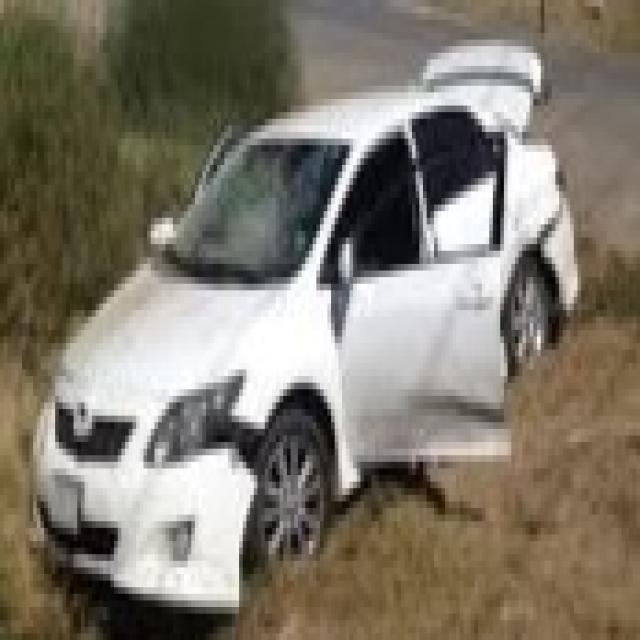minor: (116, 391, 343, 596)
